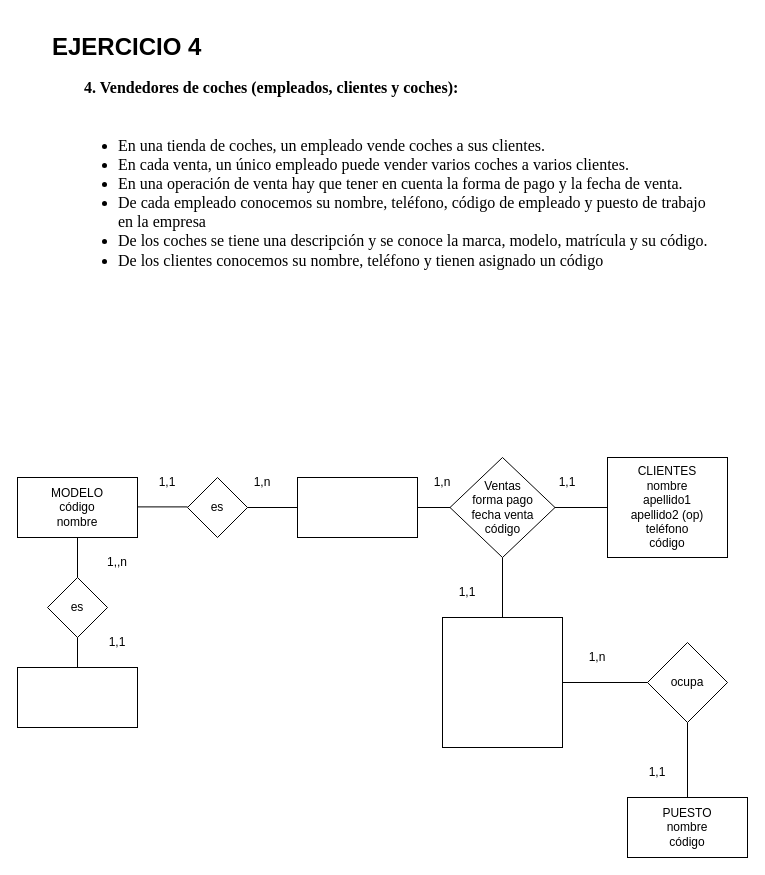
The diagram is 765 pixels wide and 875 high, and some of its shapes have lost their labels. Here are the shapes that lost their labels. From the top down, the centre of each, then its label:
At [357,507]: "COCHE descripción matrícula código".
At [77,697]: "MARCA nombre código".
At [502,682]: "EMPLEADO nombre apellido1 apellido2 (op) teléfono código".
